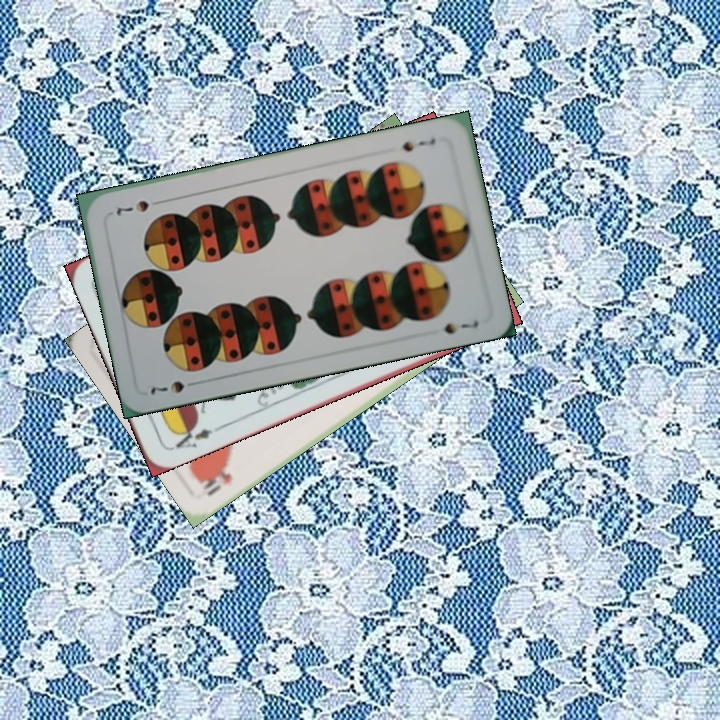EA: (169, 419, 215, 451)
HO: (196, 460, 235, 499)
S7: (146, 377, 187, 397), (397, 134, 438, 154)
